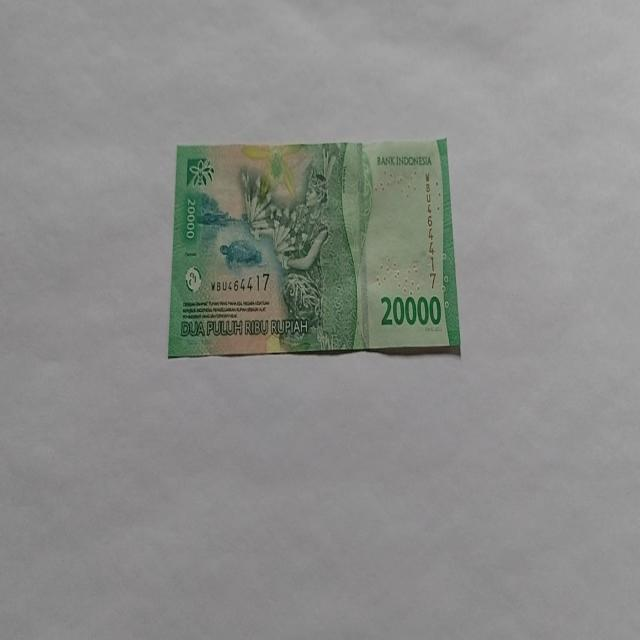dua puluh ribu rupiah: (166, 137, 462, 360)
